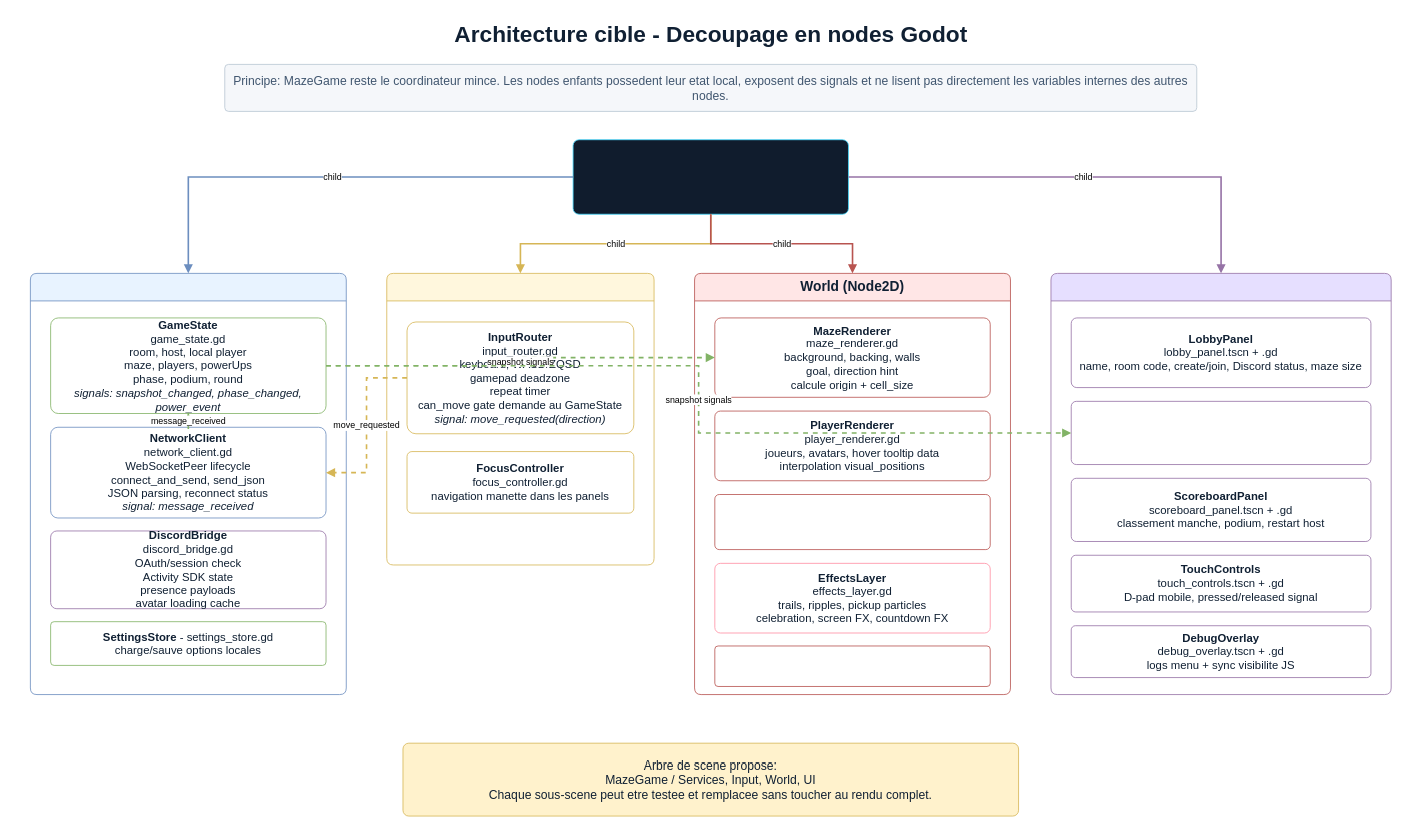
This 1421x830 diagram has some shape labels left out. The box of each missing label's shape, as (x1, y1, x2, y2) in pixels:
AudioDirector audio_director.gd tones, music loop, event sounds: (714, 645, 990, 686)
Input (Node): (386, 273, 654, 565)
MazeGame (Node2D) main.gd boot, wiring signals, orchestration minimale: (572, 139, 848, 214)
PowerUpRenderer powerup_renderer.gd power-ups actifs, cooldown arc: (714, 494, 990, 550)
RaceHud race_hud.tscn + .gd rank, effects, countdown, toast, waiting label: (1070, 401, 1371, 465)
Services (Node): (30, 273, 346, 695)
UI (CanvasLayer): (1050, 273, 1391, 695)
